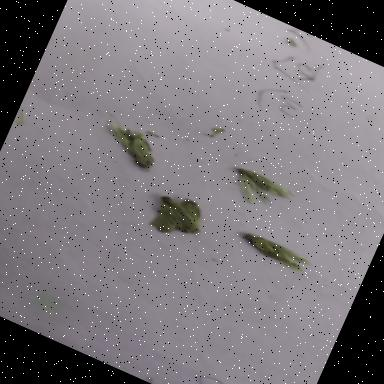pbw: (226, 166, 295, 220), (238, 228, 314, 276), (146, 195, 208, 248), (106, 127, 162, 172), (174, 196, 204, 225)
